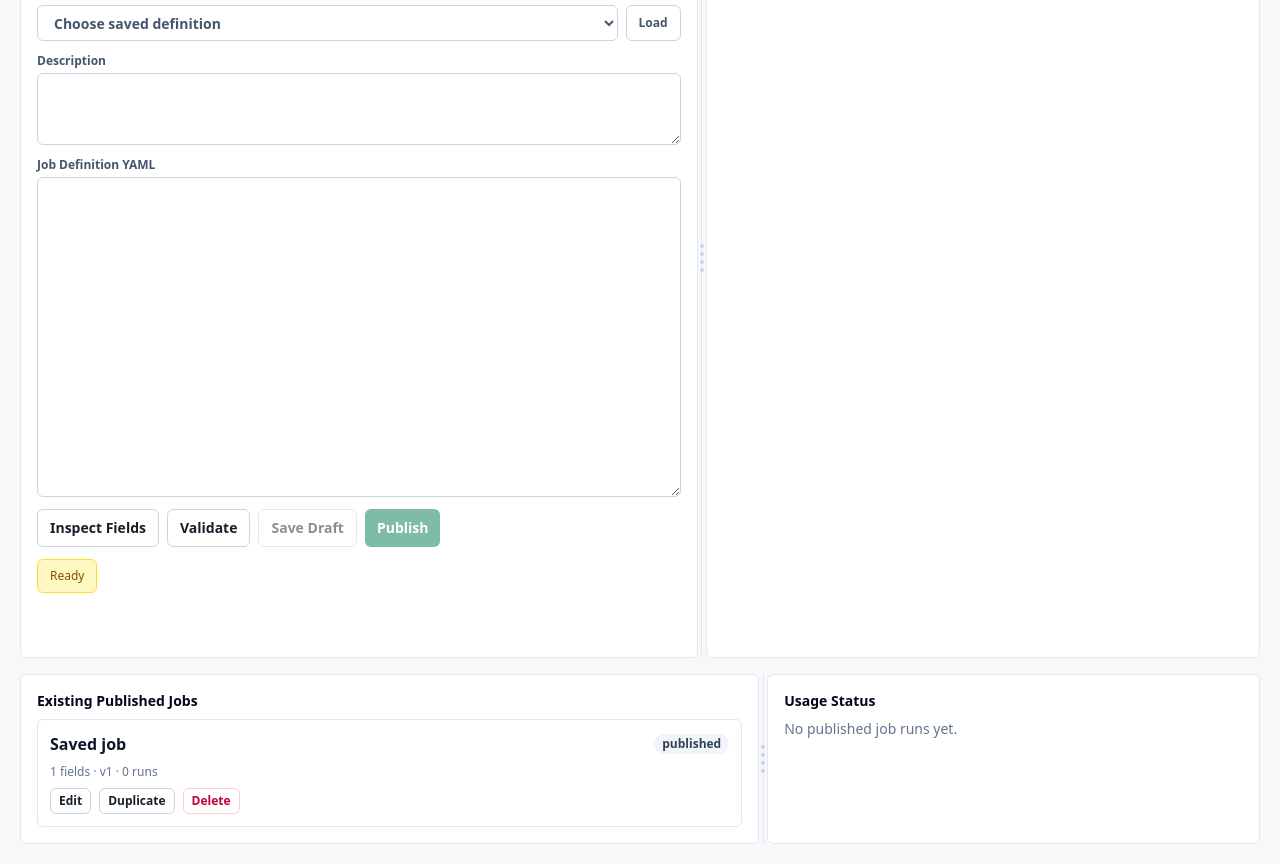
it: PublishedJobsAdminPage field editor › keeps an inline structured field typed after reloading a saved job for edit
(page scrolled)
Click the button "Edit" at (71, 801), box [50,788,91,814]
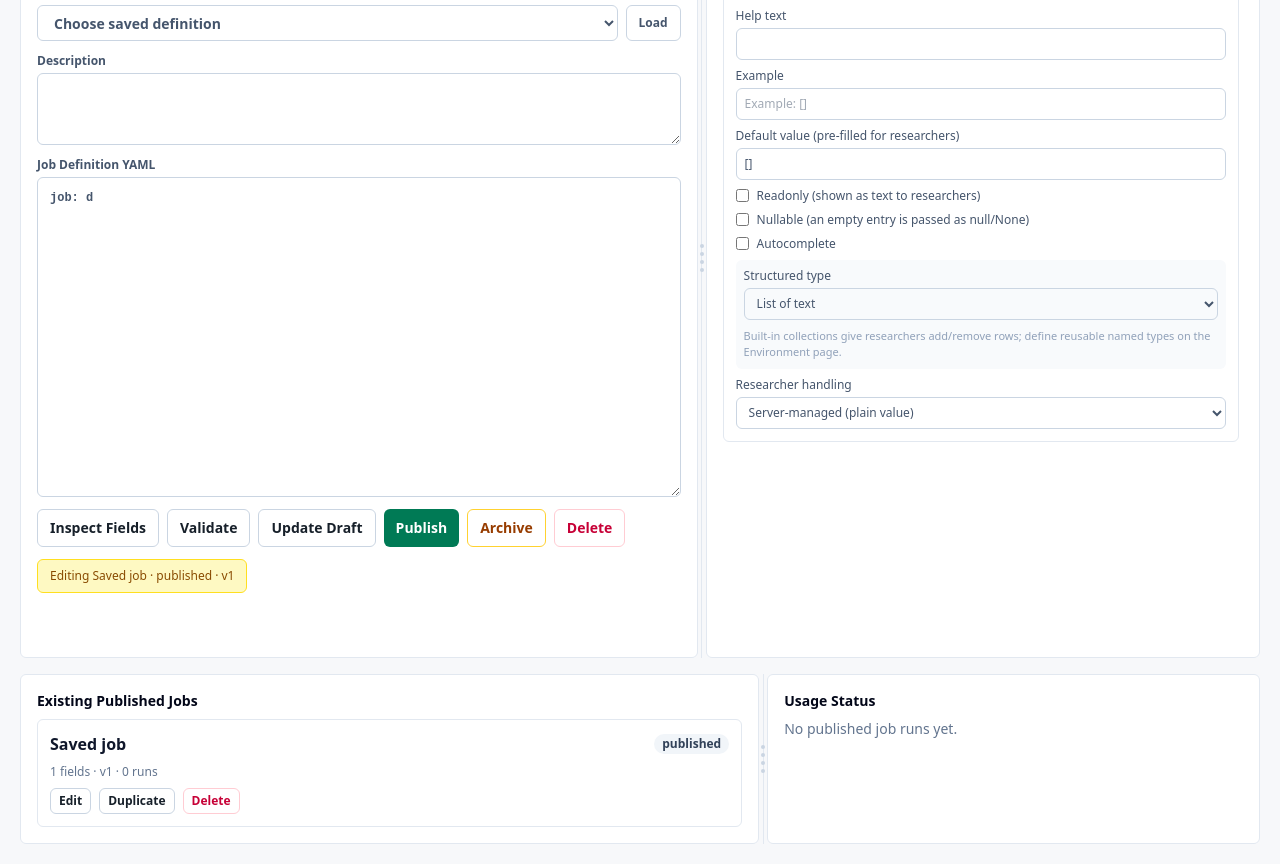
Expected: the dropdown labelled "Structured type" shows "List of text", [744,288,1218,320]
